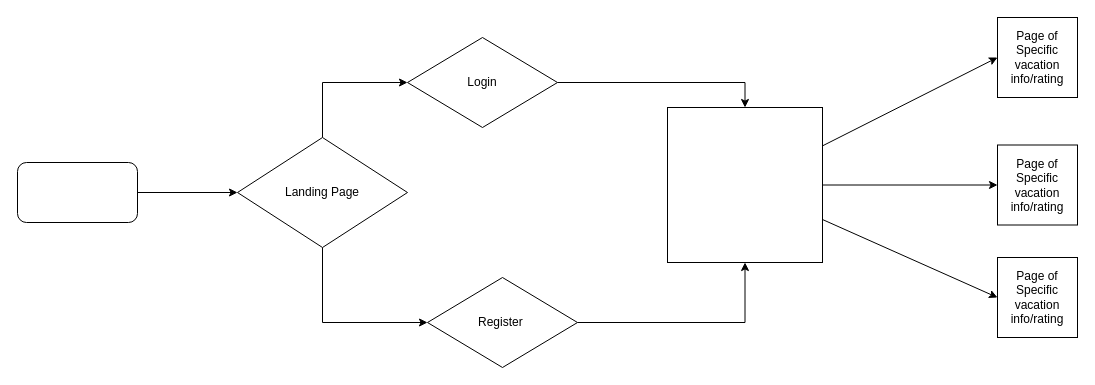
Image size: 1095x385. Some labels were removed from this diagram. Each missing label, with the centre of its shape:
"Main Page displaying top 3 Vacation Location cards" belongs at point 744,184.
"Start" belongs at point 77,192.
